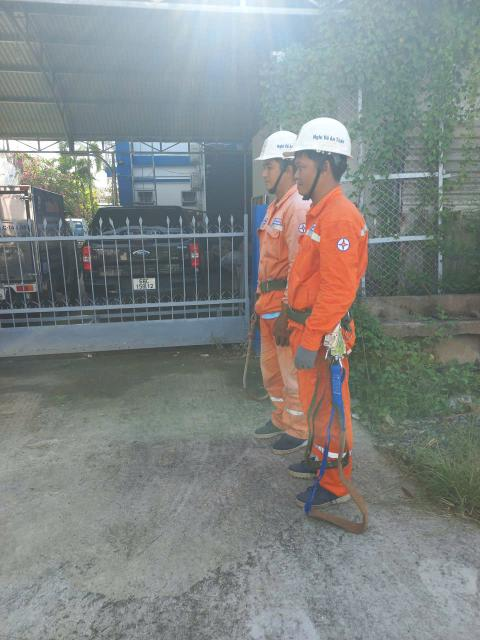gloves: (285, 342, 318, 370)
harness: (285, 298, 365, 329), (245, 273, 307, 299)
helmet: (243, 123, 304, 165), (298, 114, 355, 158)
shoes: (296, 471, 346, 510), (252, 404, 304, 438), (258, 427, 313, 453), (284, 450, 335, 476)
